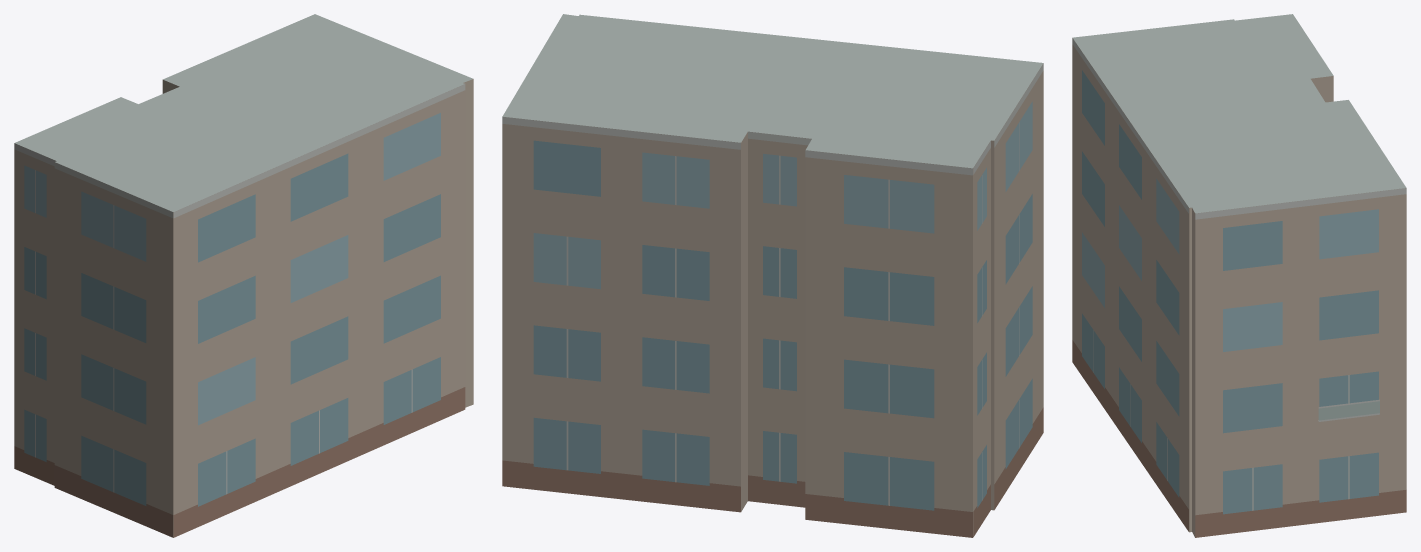
The model's file is survey-upis-32653688.glb.
3 views of the same model, side by side, from view 1: azimuth 30°, elevation 25°; view 2: azimuth 150°, elevation 25°; view 3: azimuth 270°, elevation 25° (orthographic). The views are drawn at different scales.
Parts seen in each view (by area): view 1: survey-upis-32653688.tmp; view 2: survey-upis-32653688.tmp; view 3: survey-upis-32653688.tmp.
Boxes of the visible parts, x1=… form: survey-upis-32653688.tmp: x1=14, y1=14, x2=473, y2=537; survey-upis-32653688.tmp: x1=502, y1=14, x2=1043, y2=537; survey-upis-32653688.tmp: x1=1072, y1=14, x2=1406, y2=537.
Bounding box in the file's own units: 16.76 × 12.7 × 11.87.
